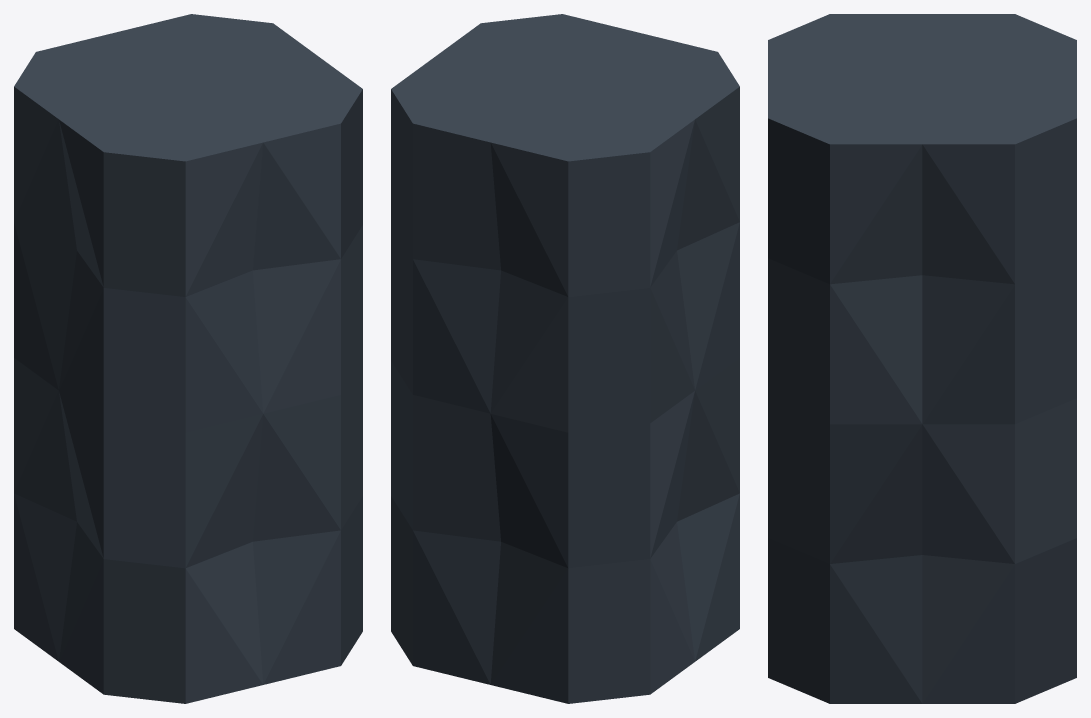
File: Section_1.glb
The picture shows the model from 3 angles, left to right: view 1: azimuth 30°, elevation 25°; view 2: azimuth 150°, elevation 25°; view 3: azimuth 270°, elevation 25°; orthographic projection. The views are drawn at different scales.
Visible parts, largest first — view 1: Section; view 2: Section; view 3: Section.
Part boxes in pixels (bbox=[...]): Section: bbox=[14, 14, 362, 703]; Section: bbox=[391, 14, 739, 703]; Section: bbox=[768, 14, 1076, 703].
Bounding box in the file's own units: 2.2 × 4.4 × 2.2.
